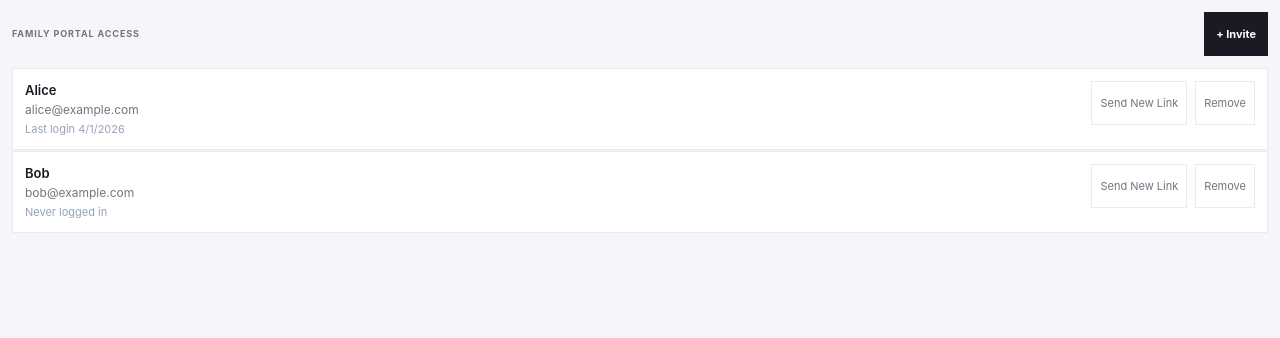
Scenario: FamilyPortalTab › opens invite form on "+ Invite" click
Click the button "+ Invite": x=1236, y=34 [1204,12,1268,56]
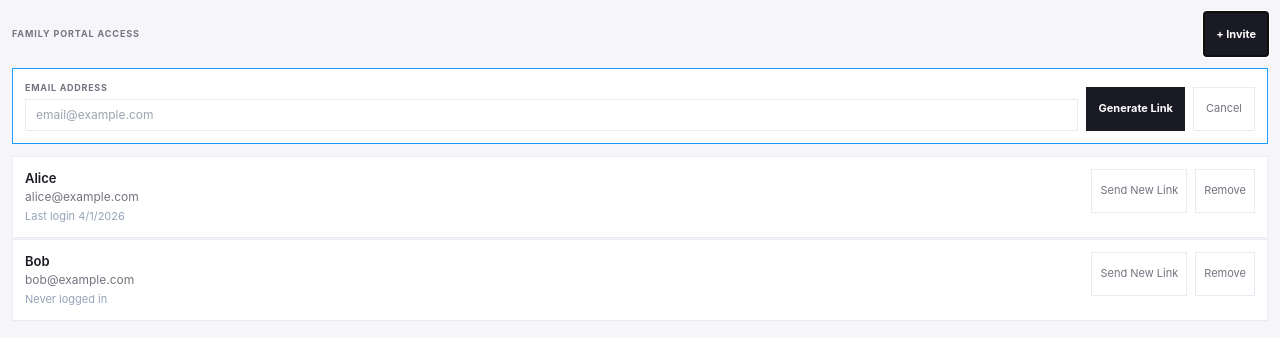
Expected: the field with placeholder "email@example.com" is shown, [25,98,1078,130]
Expected: the button "Generate Link" is shown, [1086,86,1185,130]
